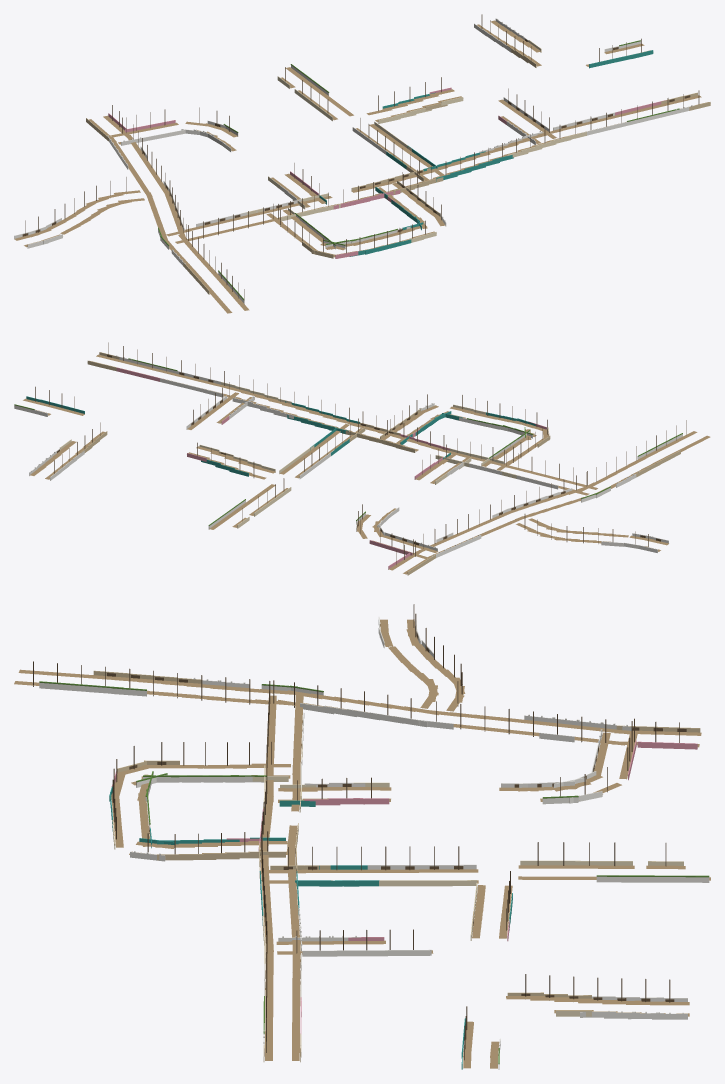
File: noord_res_-13_-10.glb
The picture shows the model from 3 angles, top to bottom: view 1: azimuth 30°, elevation 25°; view 2: azimuth 150°, elevation 25°; view 3: azimuth 270°, elevation 25°; orthographic projection. The views are drawn at different scales.
Visible parts, largest first — view 1: noord_res_-13_-10_lod0; view 2: noord_res_-13_-10_lod0; view 3: noord_res_-13_-10_lod0.
Boxes of the visible parts, left/top/right/bottom form: noord_res_-13_-10_lod0: left=14, top=14, right=710, bottom=313; noord_res_-13_-10_lod0: left=14, top=342, right=710, bottom=575; noord_res_-13_-10_lod0: left=14, top=604, right=710, bottom=1069.
Size of what is drawn, in the model's own units: 339 by 15.82 by 212.
